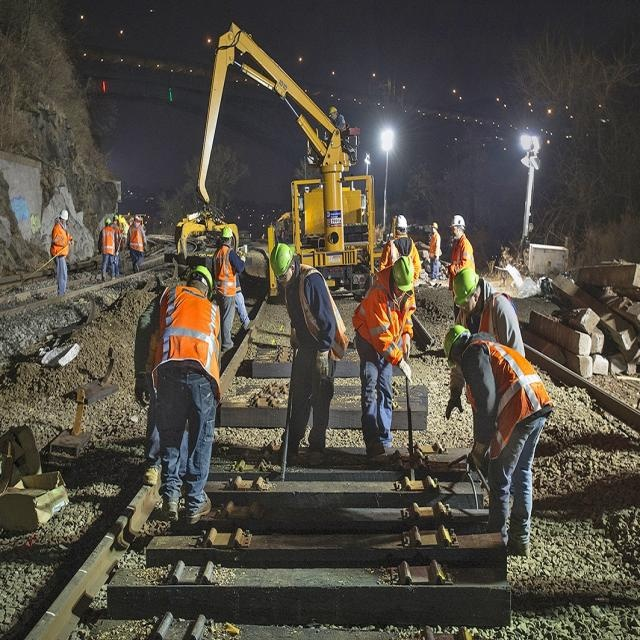Con_Casco: (269, 241, 299, 288), (393, 256, 415, 298)
Con_Chaleco: (463, 337, 553, 463), (157, 287, 223, 397)
